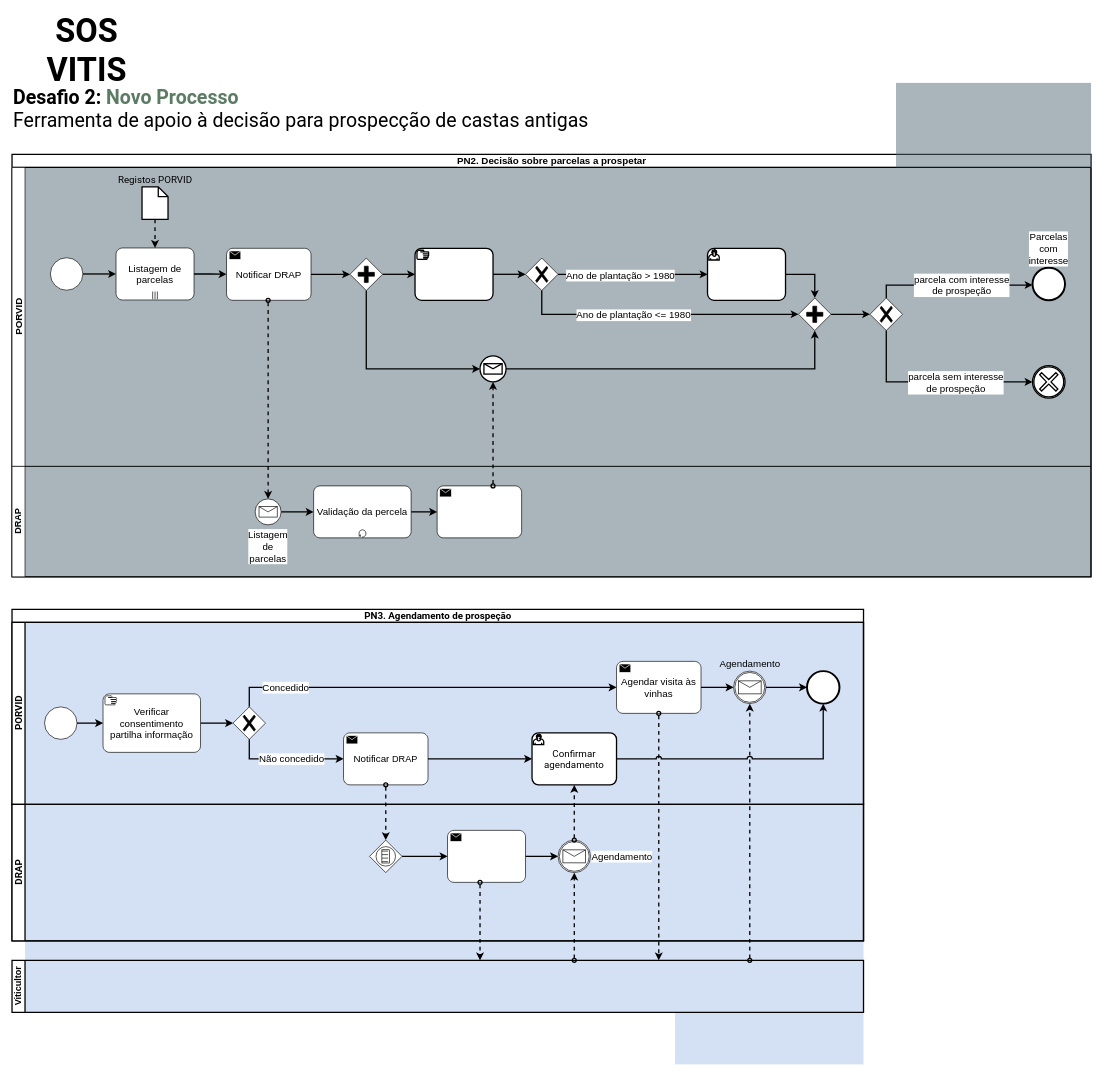
Image size: 1102x1075. Some labels were removed from this diagram. Here are the shapes that lost their labels. From the top down, the box of each, then its label:
(896, 83, 1091, 167): 2a - Analisar a informação descritiva sobre a parcela alvo de intervenção VITIS
(414, 247, 493, 301): Validação ano plantação
(707, 247, 786, 301): Validação de castas
(479, 355, 506, 382): Notificação DRAP
(1032, 365, 1065, 398): Parcelas sem interesse
(436, 485, 522, 538): Notificar PORVID
(806, 670, 839, 704): Agendamento concluido
(369, 839, 402, 873): Necessário identificar e contactar viticultores
(447, 830, 526, 882): Notificar viticultores
(675, 1012, 863, 1064): 2b - Agendar uma prospeção à parcela
